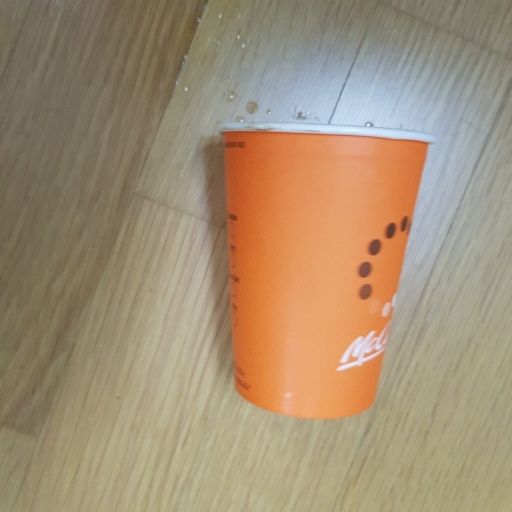Paper_1: (215, 122, 435, 415)
